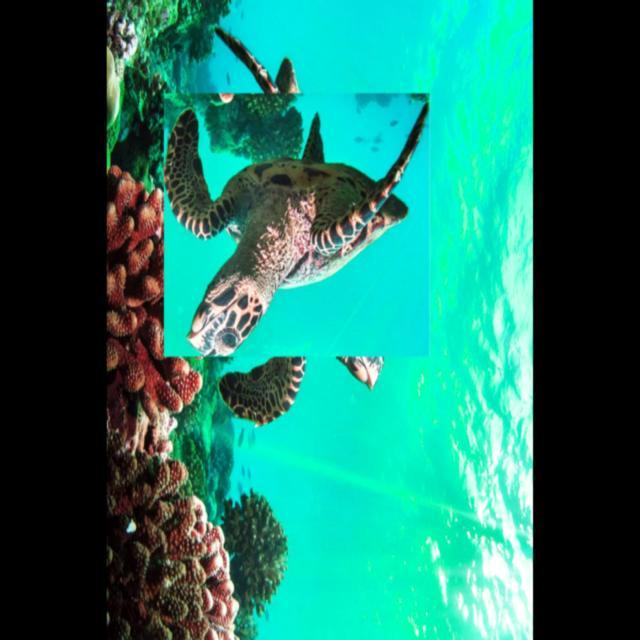Sea turtle: (186, 58, 407, 390)
